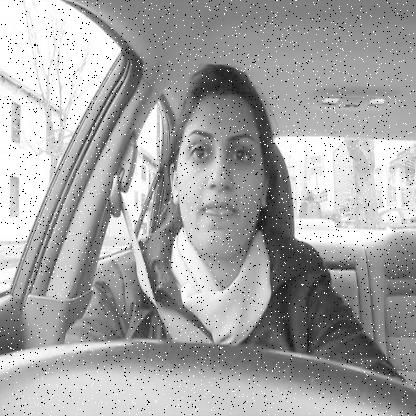seatbelt: (106, 26, 289, 342)
